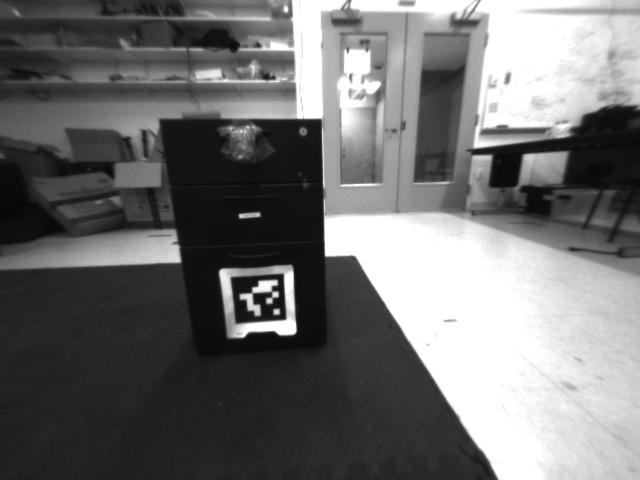door_handle: (379, 123, 400, 139)
drawer: (211, 112, 279, 172)
